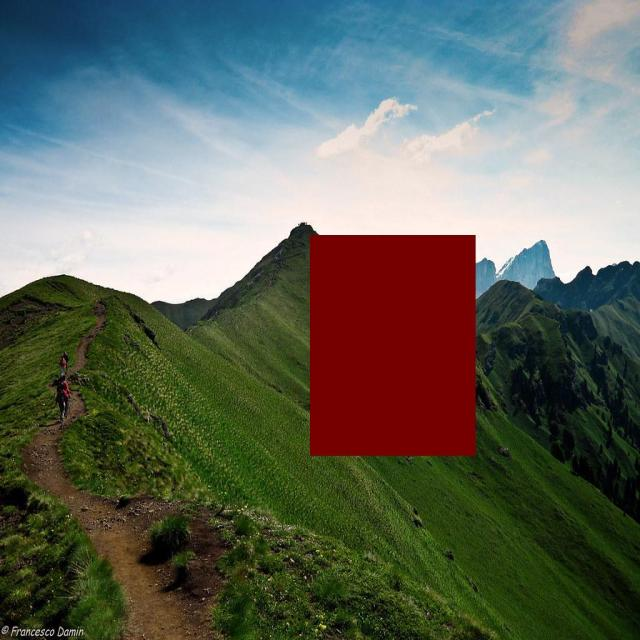RedSquare: (304, 225, 482, 459)
